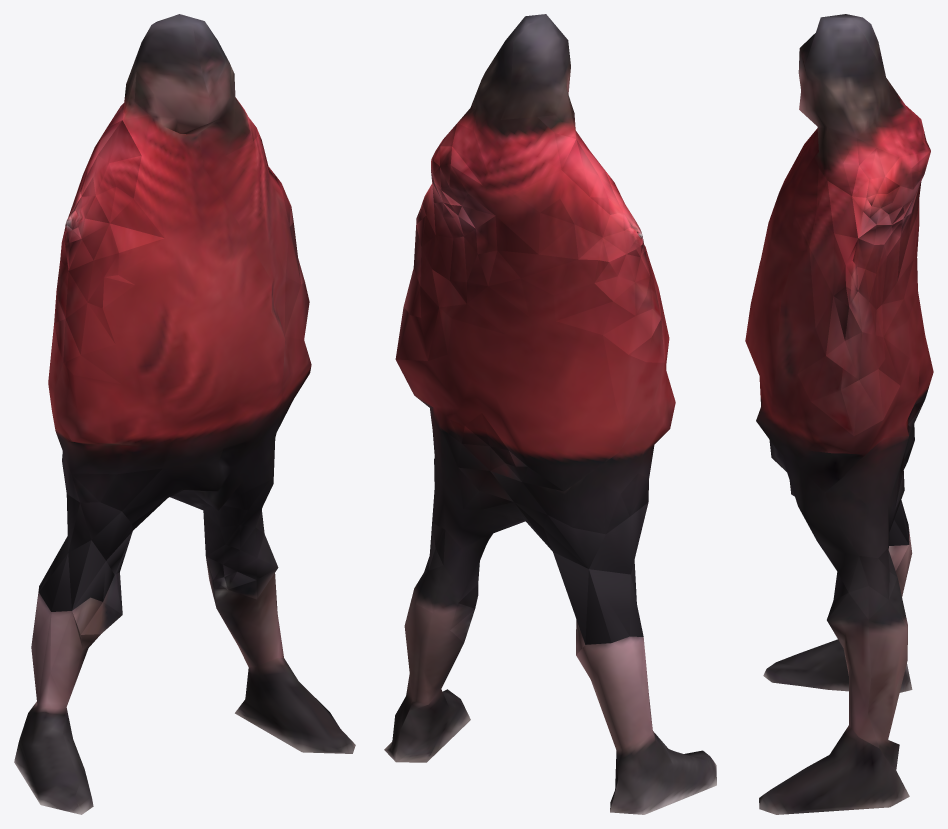
The model's file is Player.fbx.
3 renders of one model, left to right at view 1: azimuth 30°, elevation 25°; view 2: azimuth 150°, elevation 25°; view 3: azimuth 270°, elevation 25°, orthographic.
Visible parts, largest first — view 1: Player; view 2: Player; view 3: Player.
Boxes of the visible parts, x1=… form: Player: x1=14, y1=14, x2=355, y2=814; Player: x1=384, y1=14, x2=716, y2=814; Player: x1=745, y1=14, x2=933, y2=814.
Bounding box in the file's own units: 104 × 242 × 56.64.
